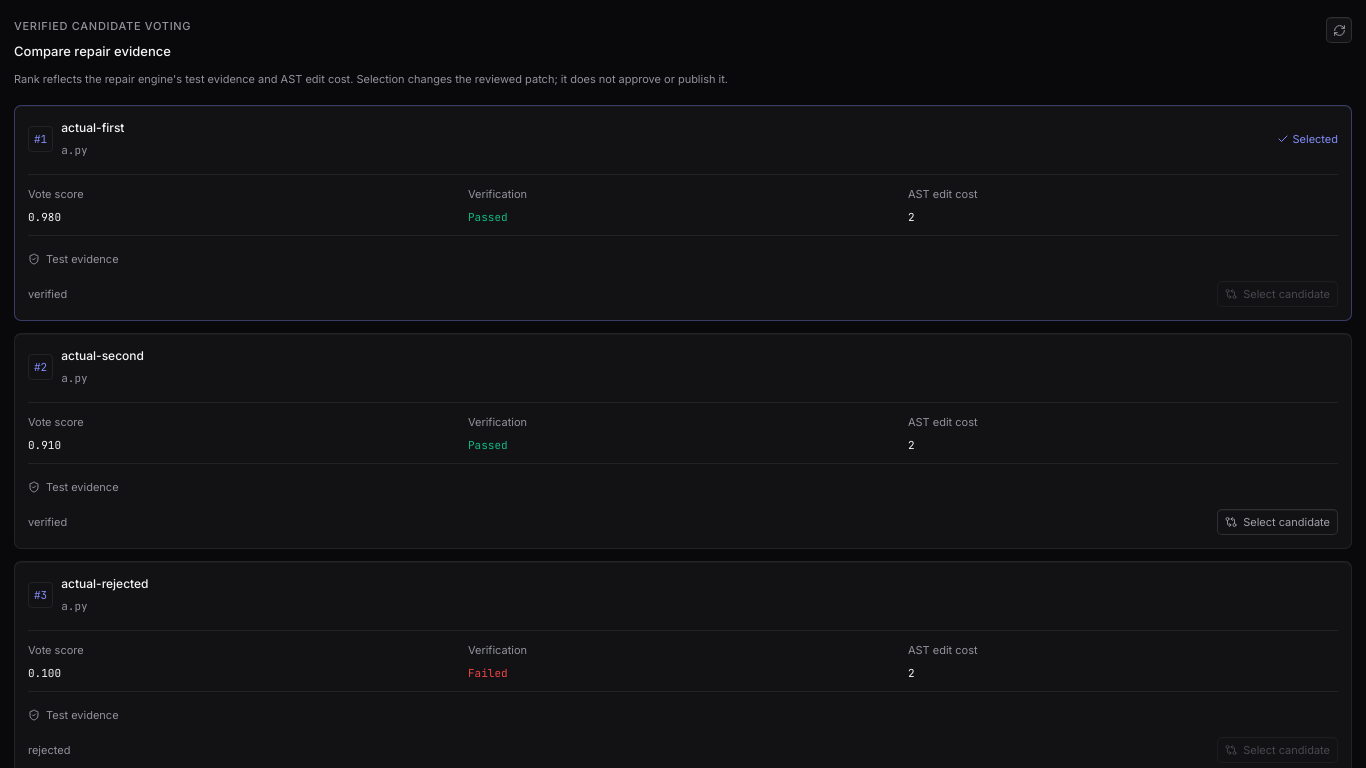
Scenario: recorded candidate voting and permissions › shows actual score, test result, AST cost, and recorded stdout for at most three candidates
Check: the heading "actual-second" is shown, box left=61, top=348, right=144, bottom=363
Check: the text "0.910" is shown, box left=28, top=438, right=61, bottom=452
Click the heading "Test evidence" below "0.910" at point(73, 487), box left=28, top=480, right=118, bottom=494
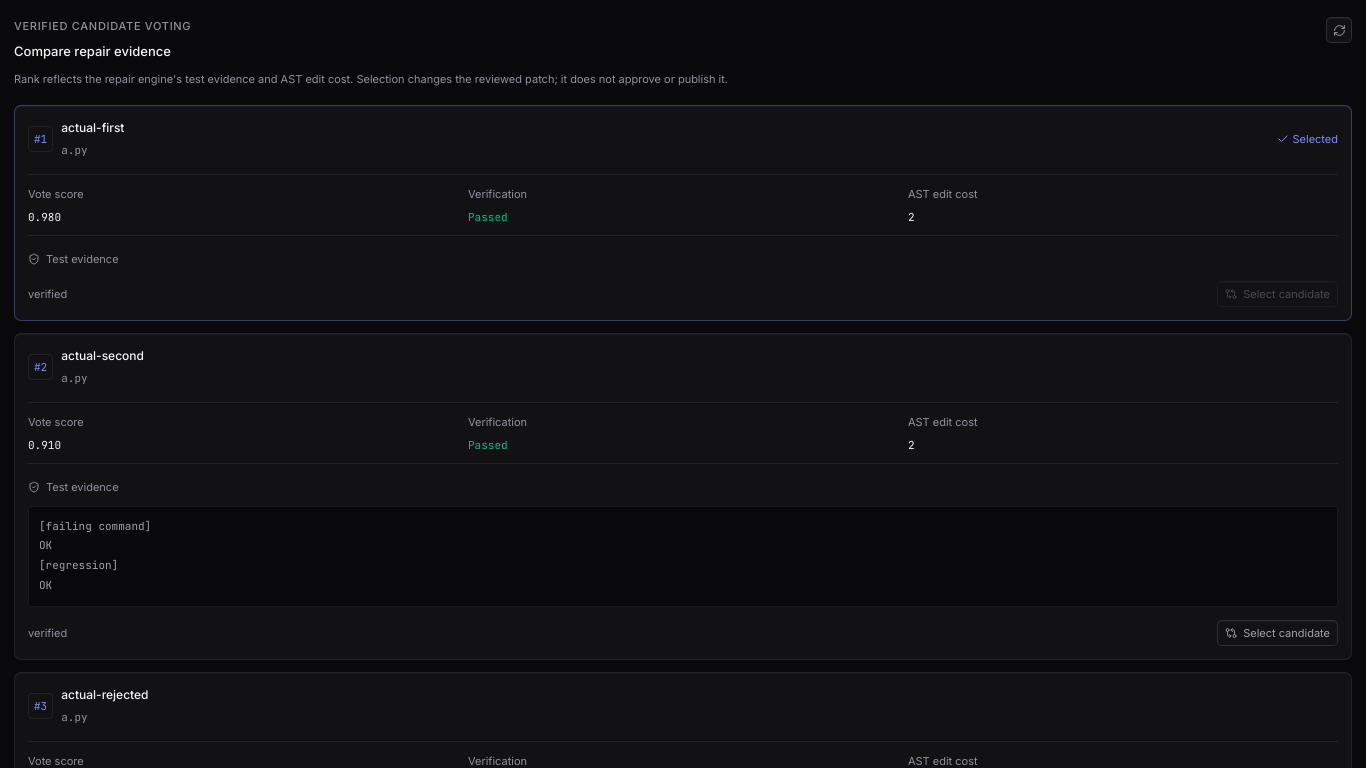
Check: the text "[failing command] OK [regression] OK" is shown, box left=28, top=506, right=1338, bottom=607
